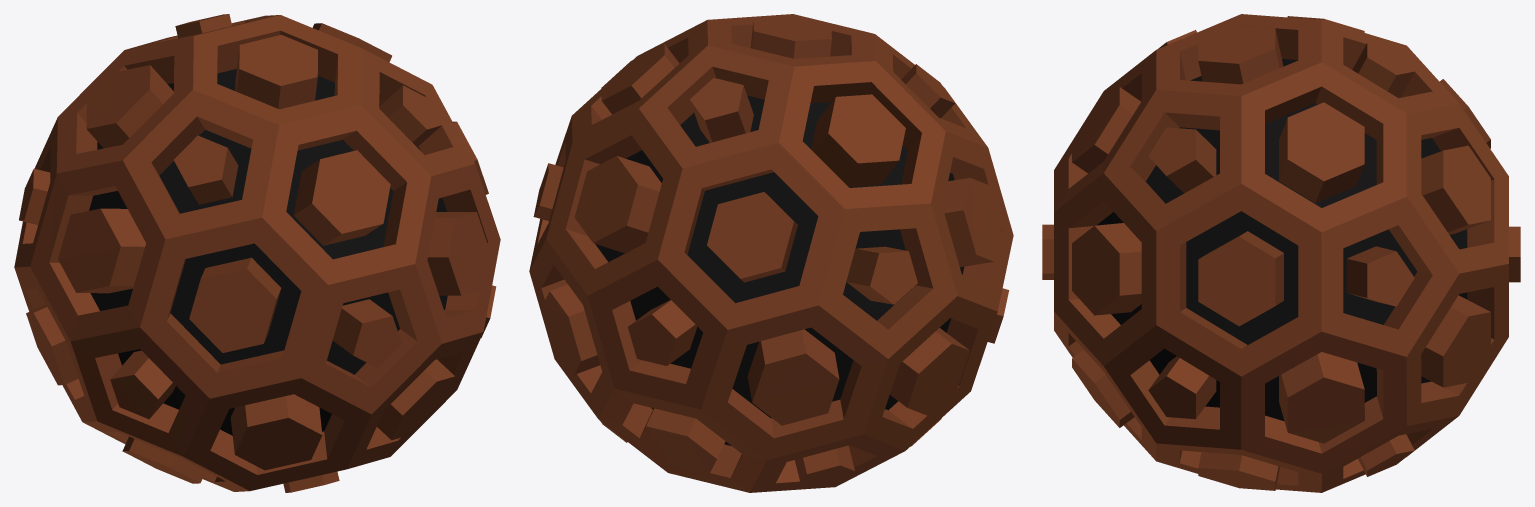
File: Comet_1.fbx
3 renders of one model, left to right at view 1: azimuth 30°, elevation 25°; view 2: azimuth 150°, elevation 25°; view 3: azimuth 270°, elevation 25°, orthographic.
Visible parts, largest first — view 1: Platonic; view 2: Platonic; view 3: Platonic.
Boxes of the visible parts, x1,y1,x2,y2 form: Platonic: (14,14,500,492); Platonic: (529,14,1013,492); Platonic: (1042,14,1520,492).
Bounding box in the file's own units: 193 × 192 × 193.
